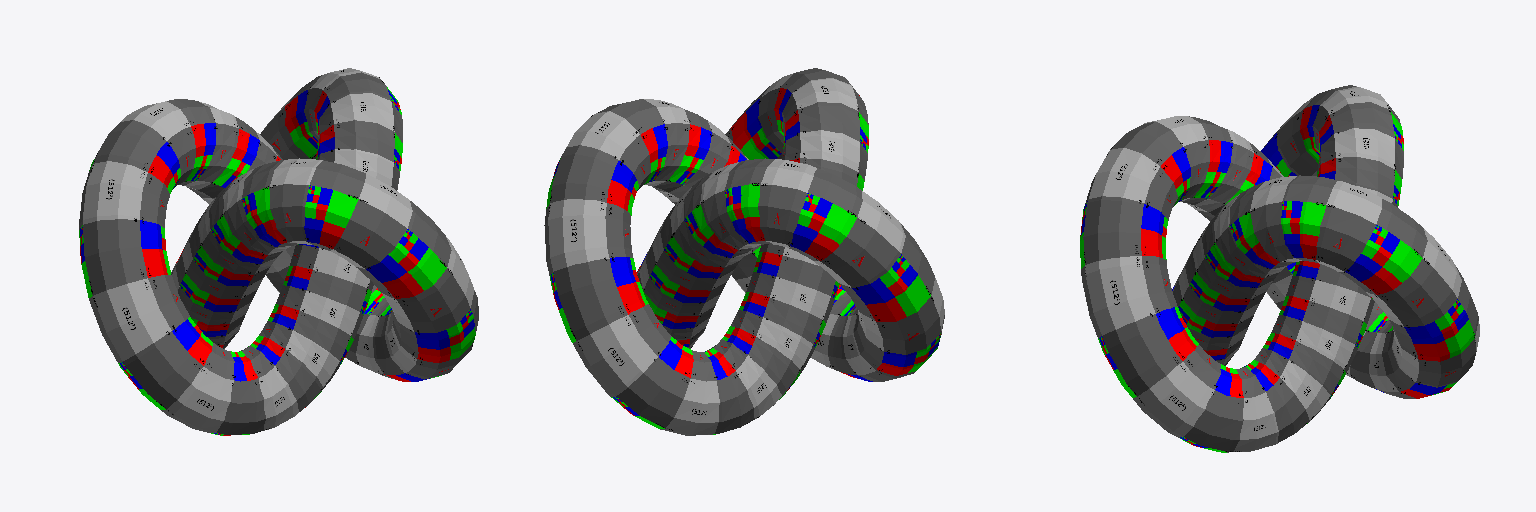
3 renders of one model, left to right at view 1: azimuth 30°, elevation 25°; view 2: azimuth 150°, elevation 25°; view 3: azimuth 270°, elevation 25°, orthographic.
Size of the model in its own units: 1.88 by 1.47 by 2.
Materials: 1 (1 with a texture image).